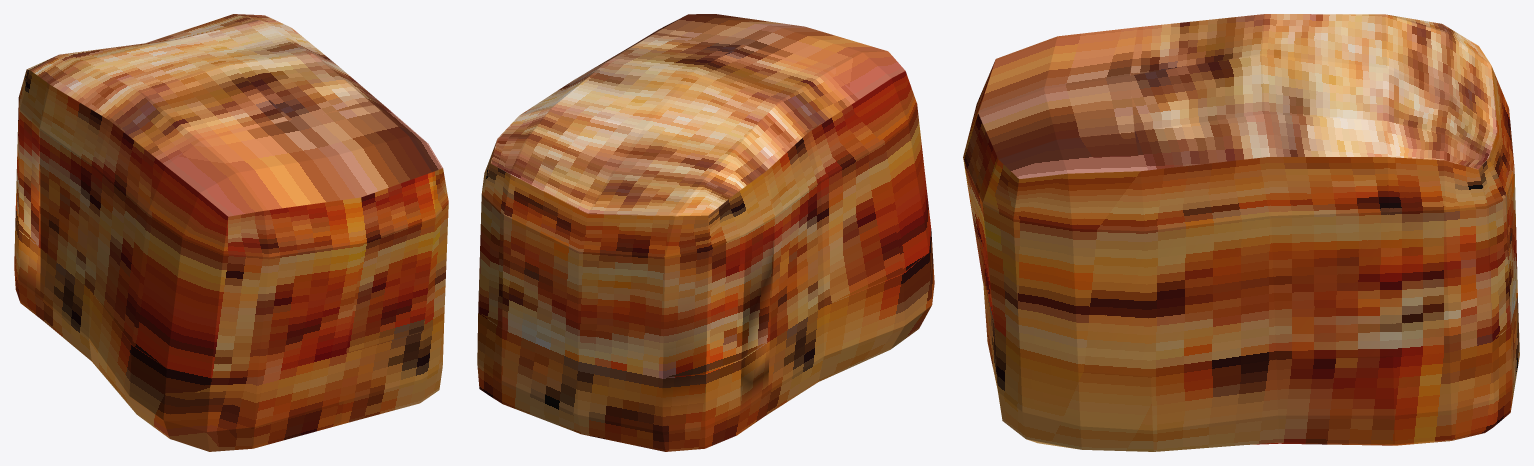
Rendered from H_LasagnaPiece.fbx.
The picture shows the model from 3 angles, left to right: view 1: azimuth 30°, elevation 25°; view 2: azimuth 150°, elevation 25°; view 3: azimuth 270°, elevation 25°; orthographic projection. The views are drawn at different scales.
Visible parts, largest first — view 1: Lasagna; view 2: Lasagna; view 3: Lasagna.
Boxes of the visible parts, x1,y1,x2,y2 form: Lasagna: [14, 14, 448, 451]; Lasagna: [477, 14, 934, 451]; Lasagna: [963, 14, 1519, 451].
Bounding box in the file's own units: 15.02 × 14.14 × 21.47.
